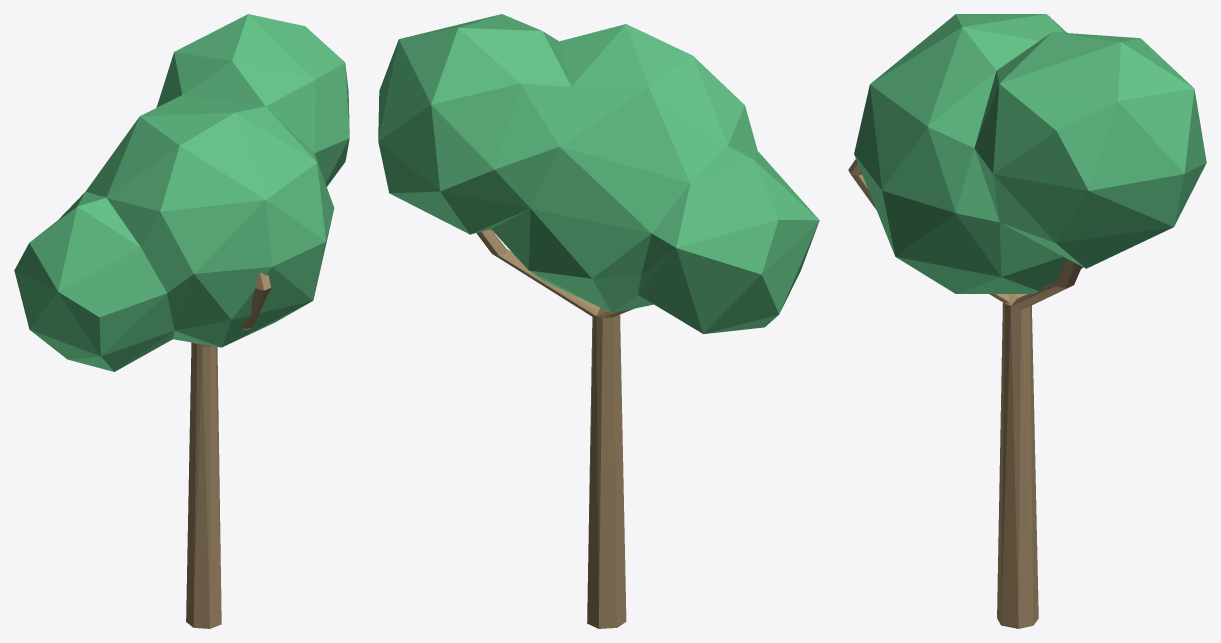
The model's file is tree1.fbx.
3 views of the same model, side by side, from view 1: azimuth 30°, elevation 25°; view 2: azimuth 150°, elevation 25°; view 3: azimuth 270°, elevation 25° (orthographic). The views are drawn at different scales.
Parts seen in each view (by area): view 1: treetype10; view 2: treetype10; view 3: treetype10.
Boxes of the visible parts, box(x1,y1,x2,y2) form: treetype10: box(14, 14, 349, 628); treetype10: box(378, 14, 819, 628); treetype10: box(848, 14, 1206, 628).
Bounding box in the file's own units: 134 × 205 × 106.
